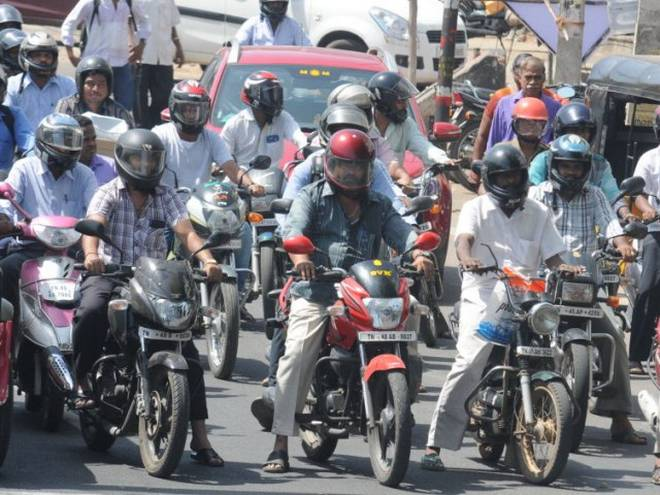helmet: (111, 129, 169, 187), (36, 112, 86, 161), (326, 131, 376, 180), (481, 144, 531, 193), (547, 138, 597, 187), (372, 77, 418, 119), (238, 72, 284, 114), (166, 80, 212, 122), (17, 32, 62, 72)
